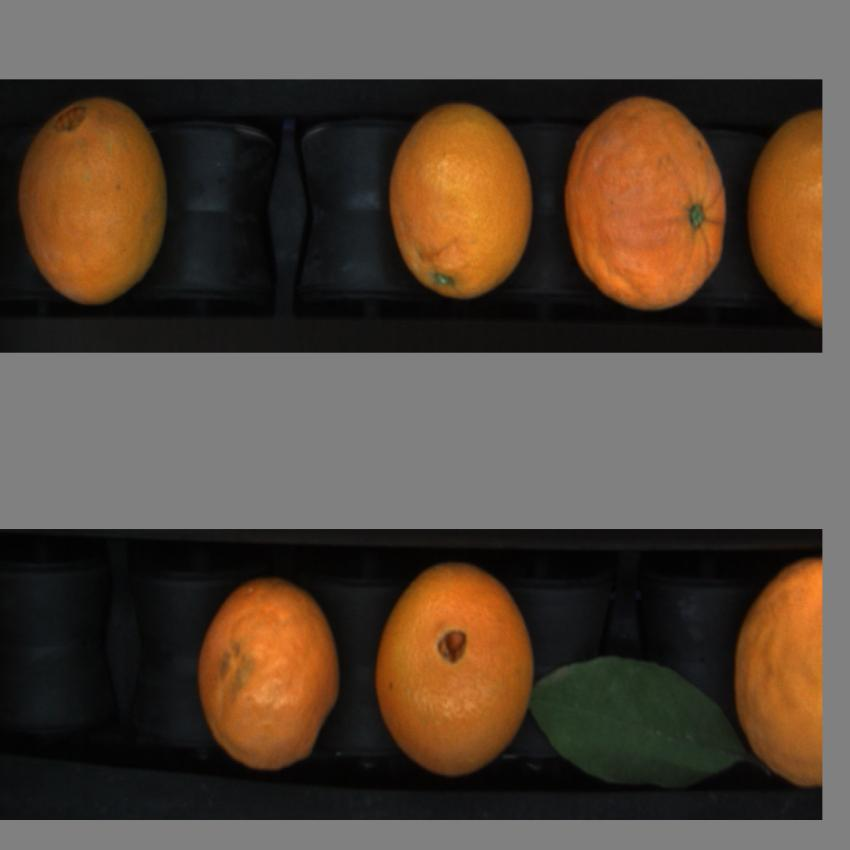Buen estado: (372, 558, 539, 782), (14, 90, 181, 313), (382, 97, 542, 307), (730, 557, 824, 792), (746, 106, 822, 326)
Mal estado: (561, 93, 735, 323), (194, 569, 348, 780)
